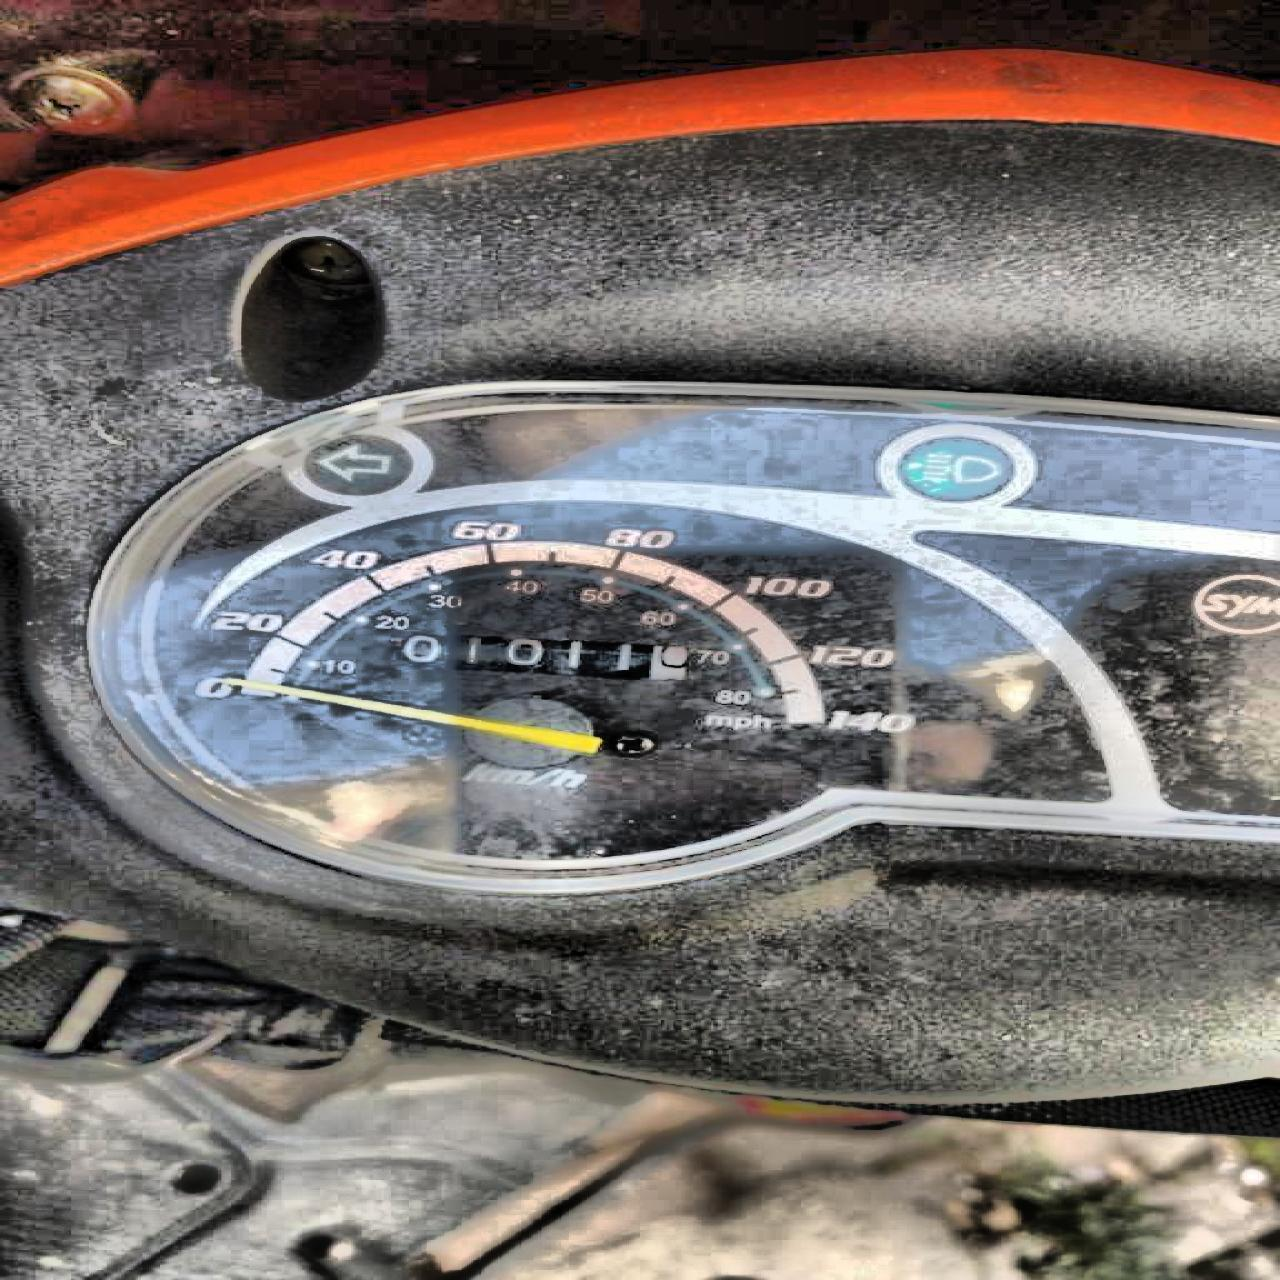0: (498, 635, 544, 667), (399, 633, 440, 663), (653, 642, 689, 669)
1: (605, 639, 638, 672), (556, 636, 586, 670), (456, 634, 484, 665)
odometer: (374, 627, 694, 683)
